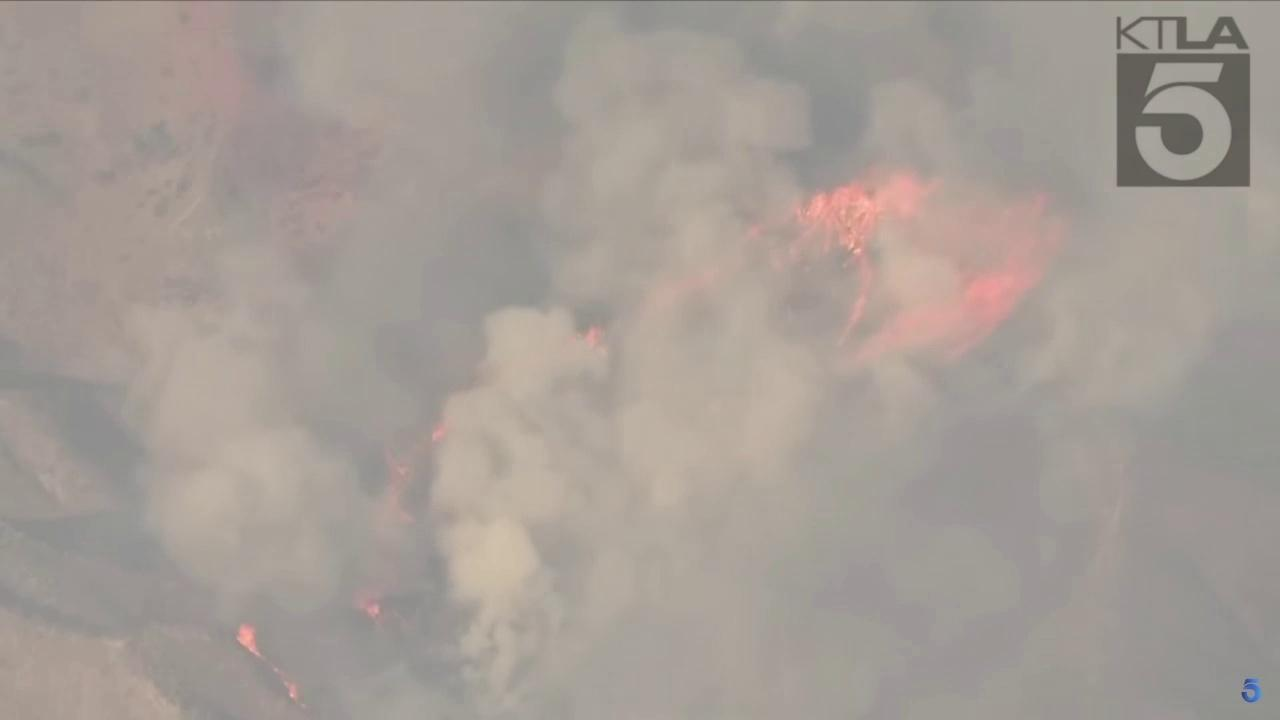fire: (742, 167, 1066, 364), (232, 621, 263, 659), (582, 326, 602, 349), (428, 423, 448, 443), (283, 681, 301, 702), (367, 600, 381, 619)
smoke: (120, 0, 1280, 720)
